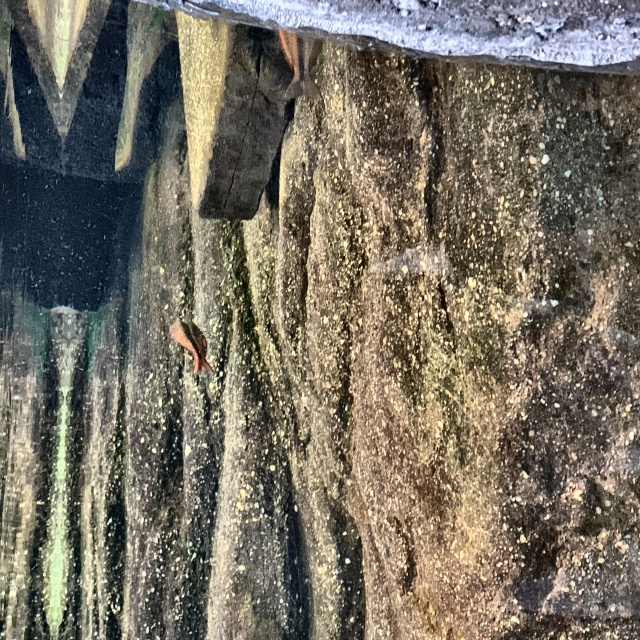fish: (278, 30, 323, 99), (169, 316, 216, 378)
